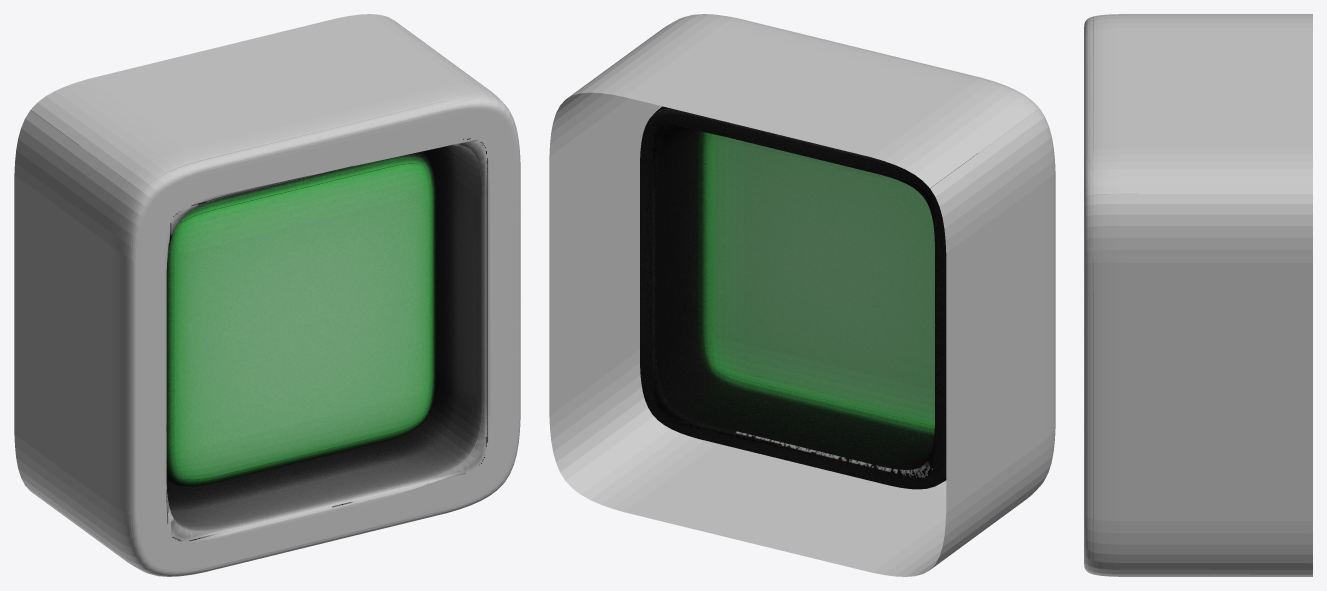
Rendered from checkbox_on.dae.
3 views of the same model, side by side, from view 1: azimuth 30°, elevation 25°; view 2: azimuth 150°, elevation 25°; view 3: azimuth 270°, elevation 25° (orthographic).
Visible parts, largest first — view 1: Cube; view 2: Cube; view 3: Cube.
Part boxes in pixels (<box>): Cube: <box>14,14,520,576</box>; Cube: <box>549,14,1055,576</box>; Cube: <box>1084,14,1312,576</box>.
Size of the model in its own units: 0.999 by 0.5 by 0.999.
Materials: 1 (1 with a texture image).
